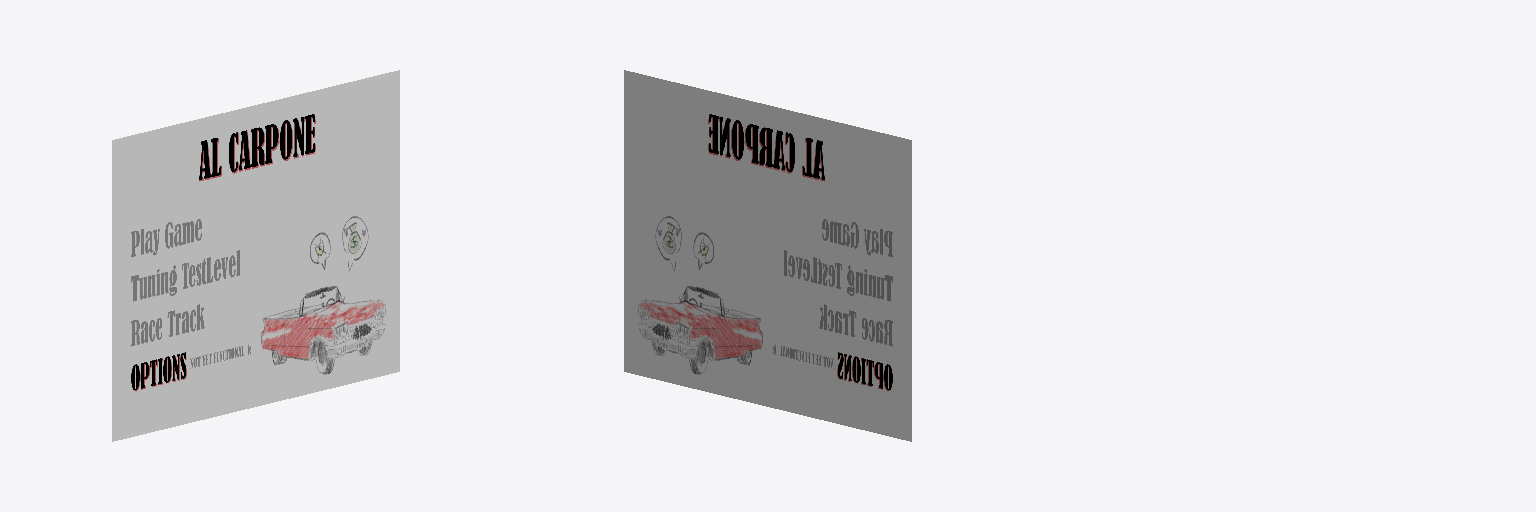
3 renders of one model, left to right at view 1: azimuth 30°, elevation 25°; view 2: azimuth 150°, elevation 25°; view 3: azimuth 270°, elevation 25°, orthographic.
Parts seen in each view (by area): view 1: Plane; view 2: Plane; view 3: none.
Boxes of the visible parts, <box> form: Plane: <box>112,70,399,441</box>; Plane: <box>624,70,911,441</box>.
Bounding box in the file's own units: 2 × 2 × 0.
Materials: 1 (1 with a texture image).